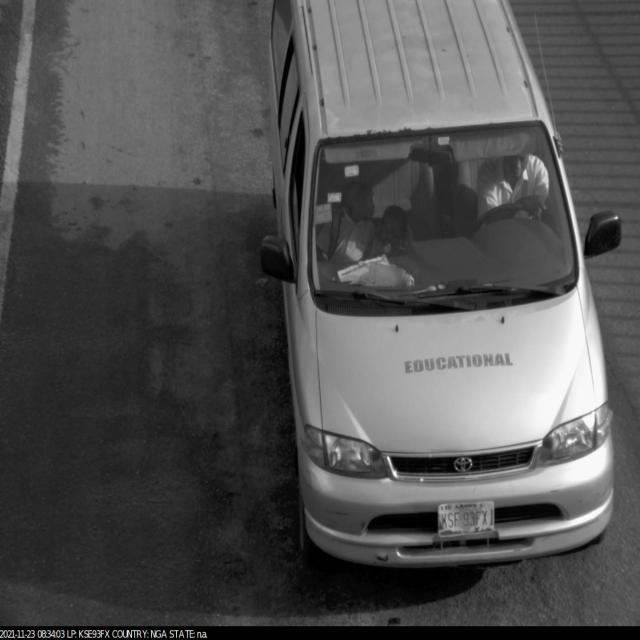windshield: (298, 102, 582, 333)
